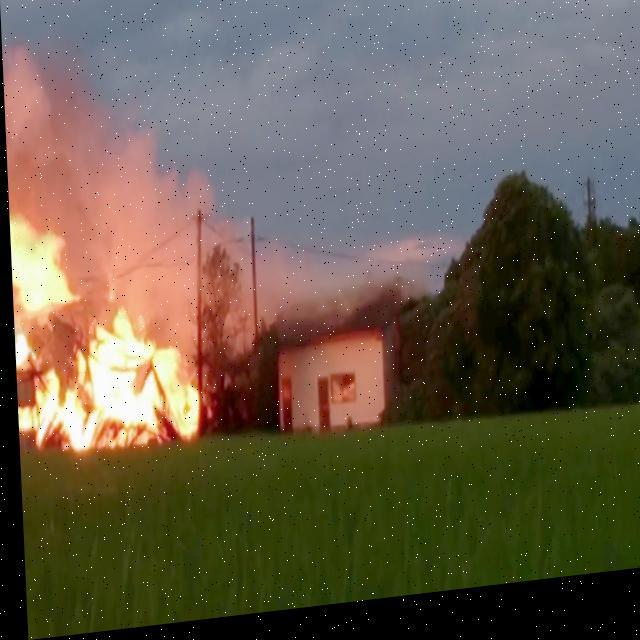Fire: (9, 196, 194, 454)
